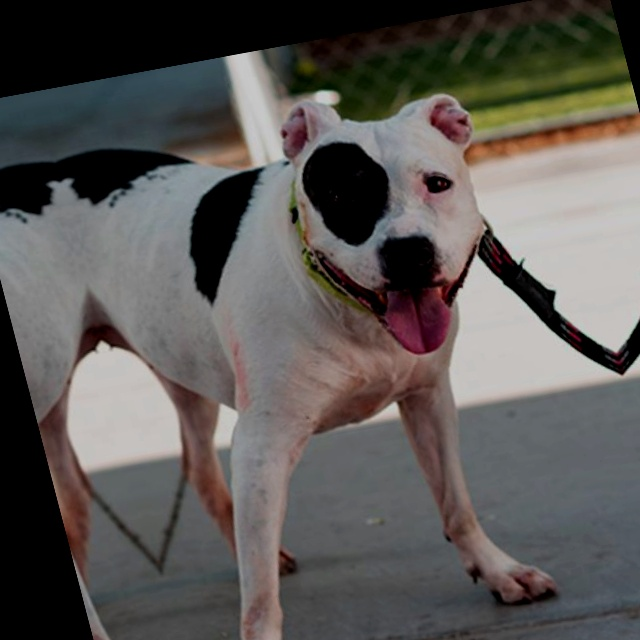dog: (43, 24, 640, 640), (0, 114, 205, 640), (531, 9, 640, 640)
